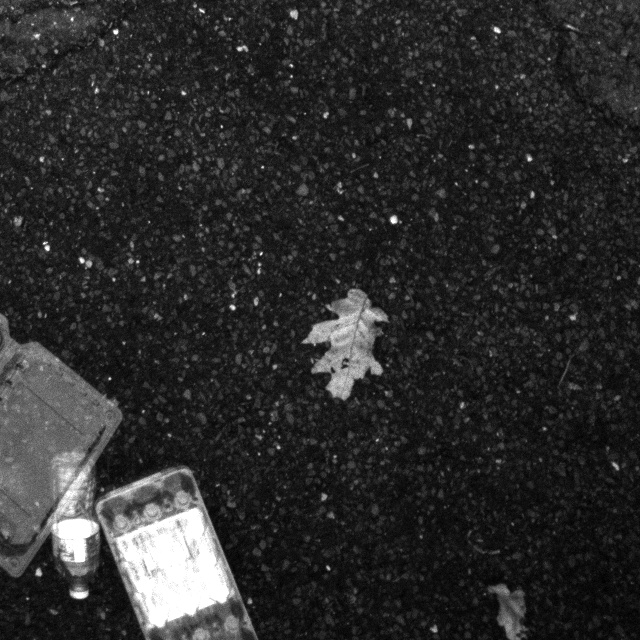bottle: (28, 442, 102, 597)
container: (0, 251, 139, 578), (99, 454, 265, 640)
